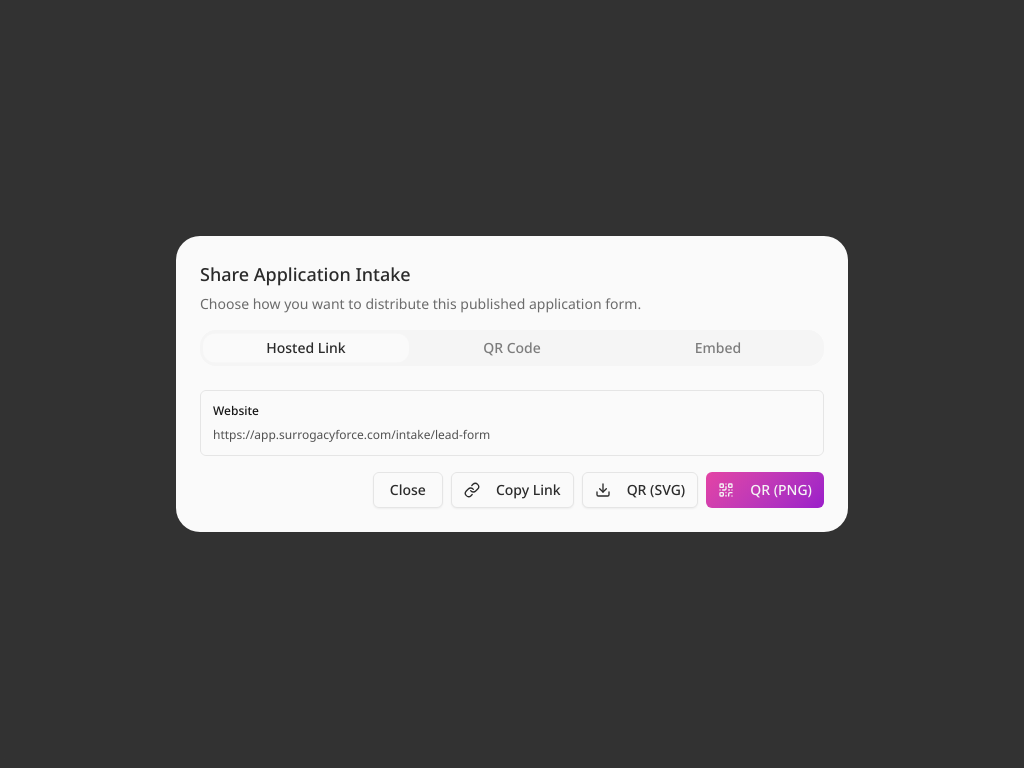
ShareApplicationDialog › keeps egg_donor forms on the hosted link
What coordinates should you click on to do the following:
click the tab "Embed"
I would click on:
 (718, 348)
Its box is left=615, top=334, right=821, bottom=362.
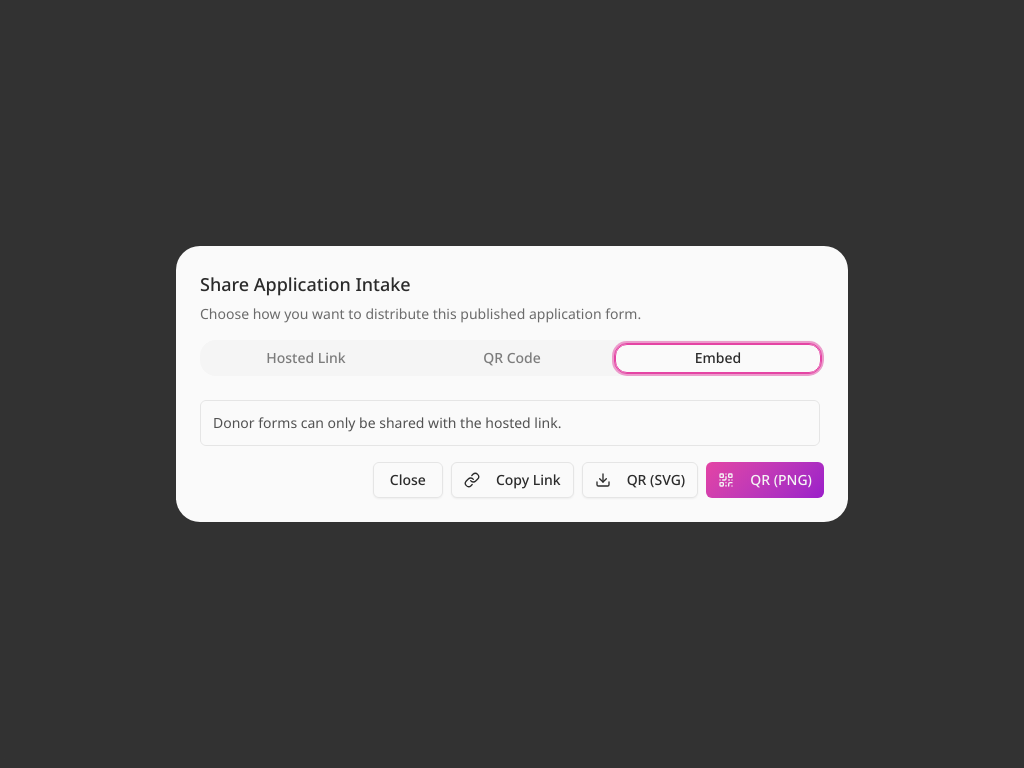
Check: the text "Donor forms can only be shared with the hosted link." is shown, box left=213, top=413, right=562, bottom=432
